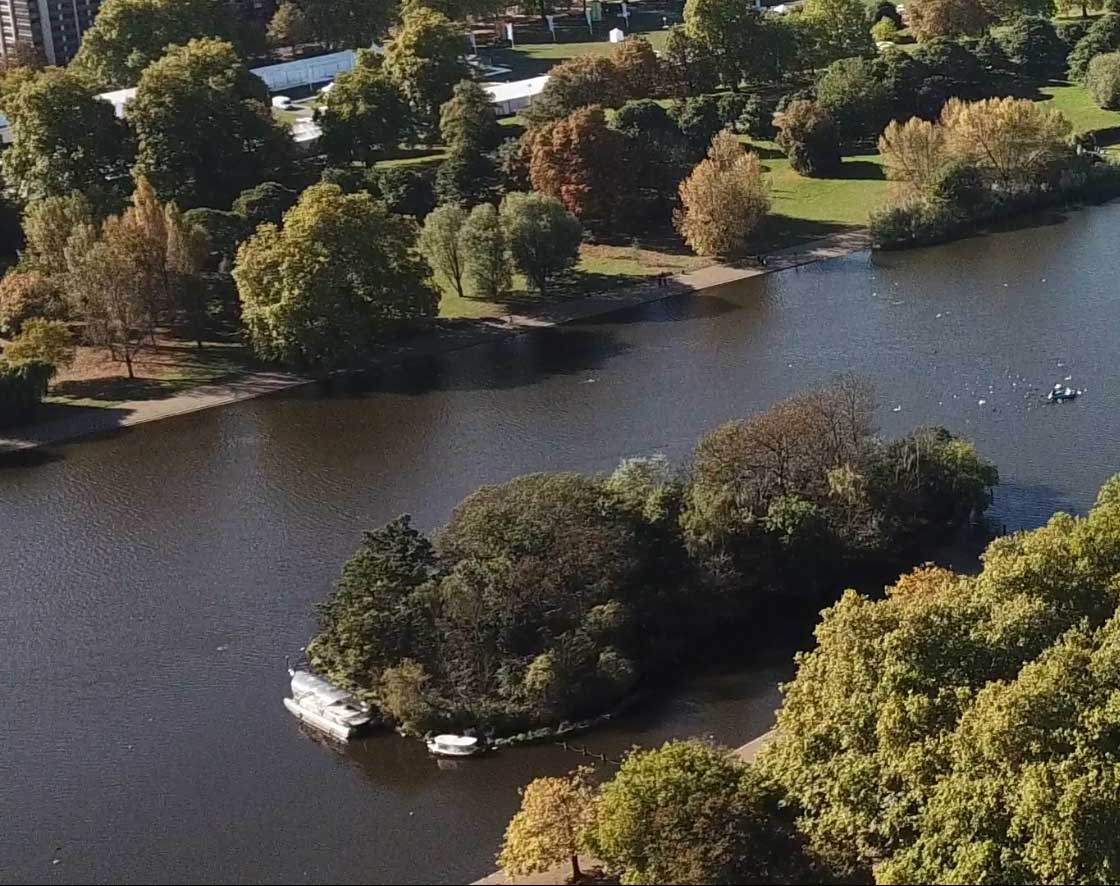tree: (59, 224, 204, 397), (673, 141, 777, 259), (417, 192, 503, 305)
